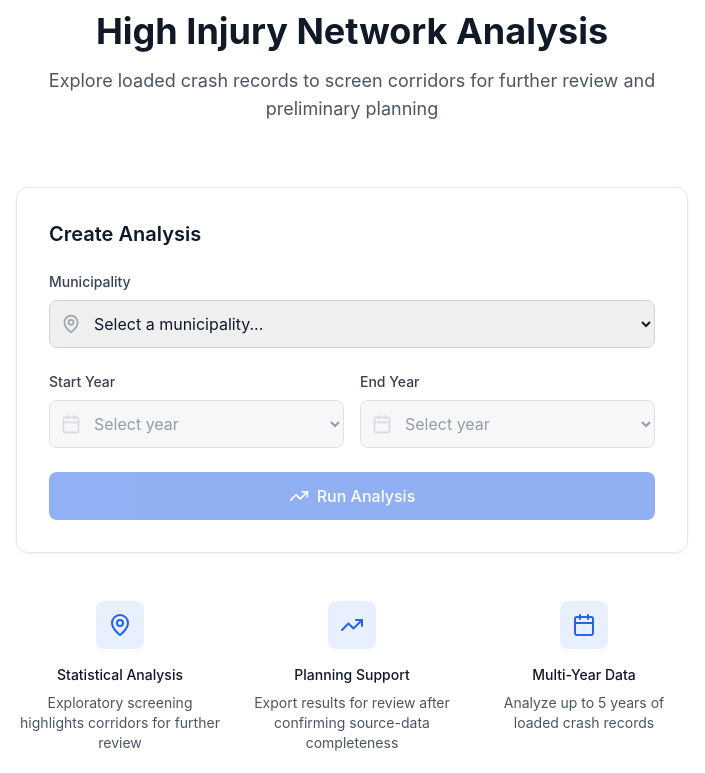
it: blocks a selected range that crosses an unloaded year
Select "Alpha Township — Mercer County" in the dropdown labelled "Municipality" at (352, 324), box [49, 300, 655, 348]
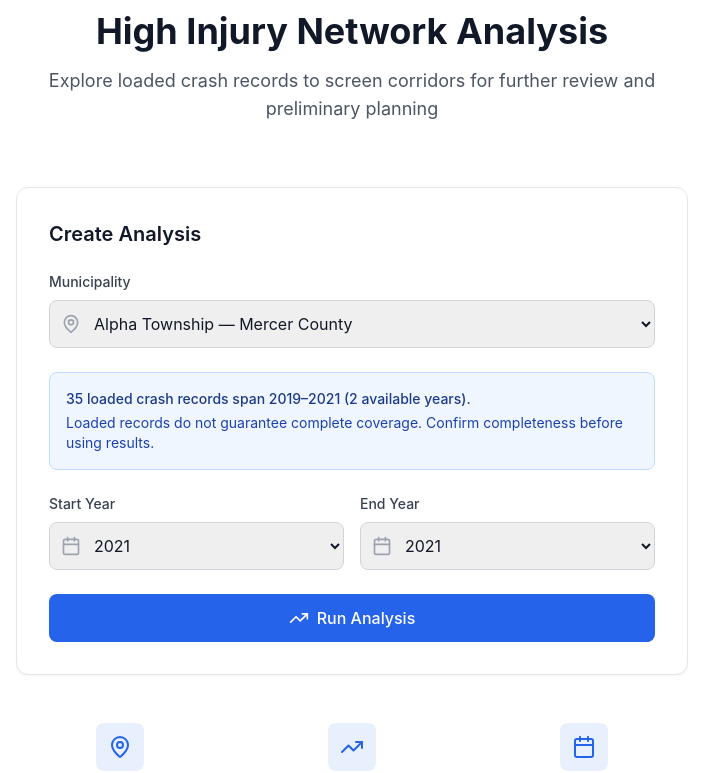
Now the dropdown labelled "Start Year" shows "2021"
Select "2019" in the dropdown labelled "Start Year" at (196, 546), box [49, 522, 344, 570]
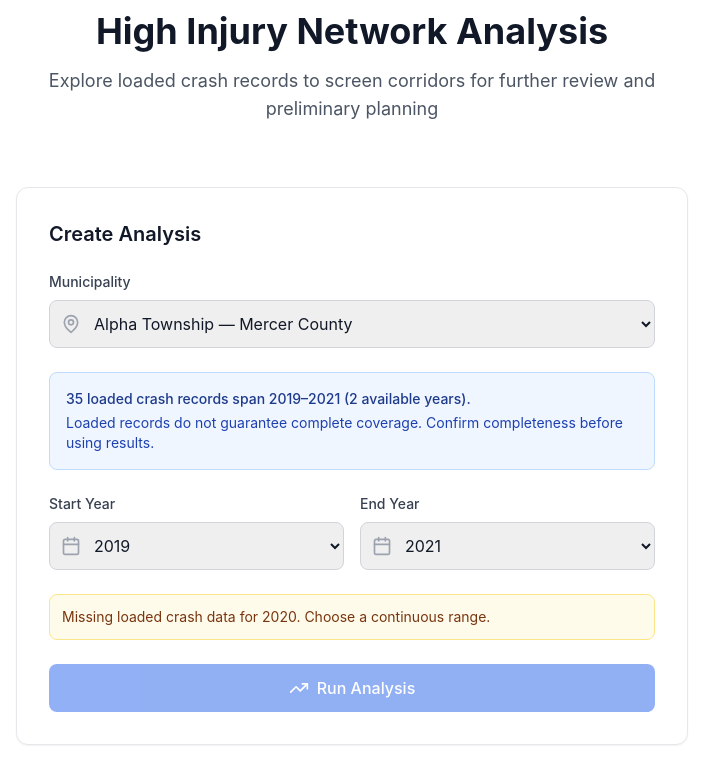
Now the message shows "Missing loaded crash data for 2020", box [62, 608, 490, 625]
Now the button "Run Analysis" is disabled, box [49, 664, 655, 712]
